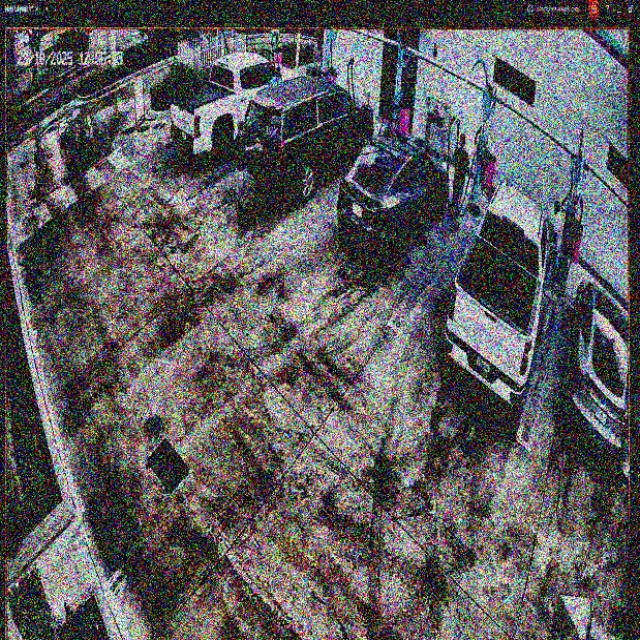Car: (444, 183, 558, 408), (242, 78, 372, 201), (171, 50, 304, 165), (339, 136, 448, 264)
